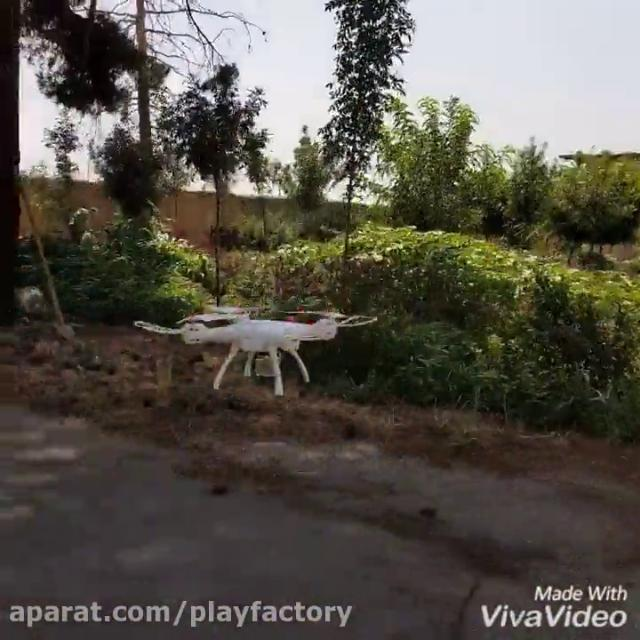drone: (134, 301, 380, 395)
